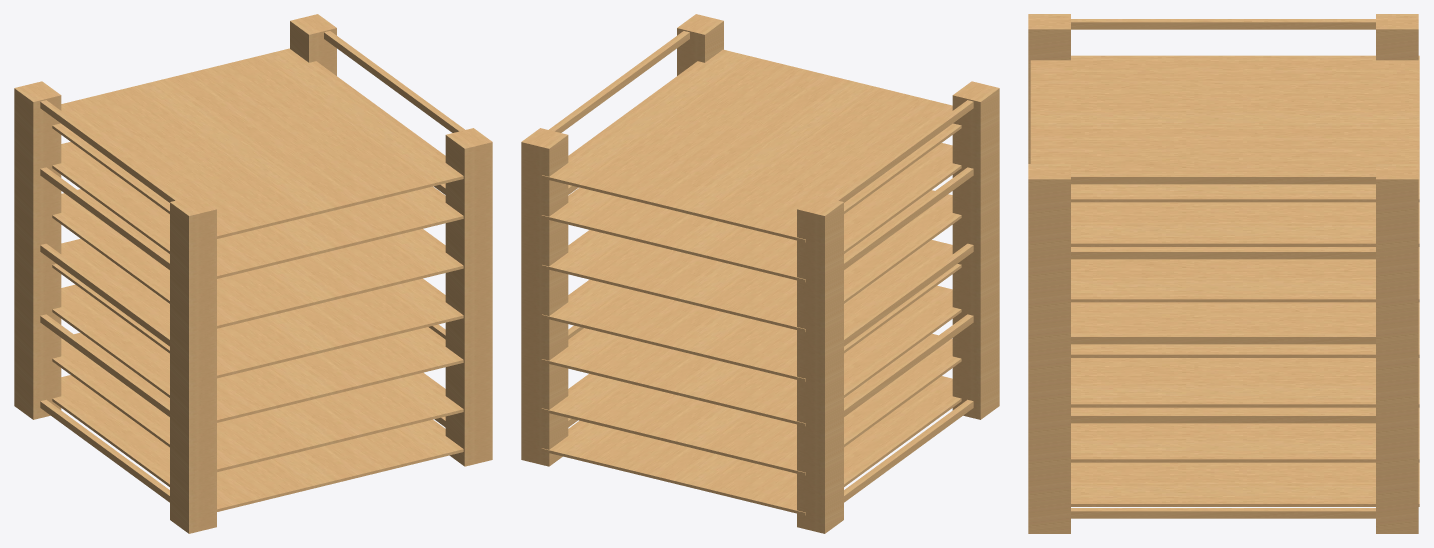
File: sh-contrib-pinewood-rack-full-height-half-width.glb
The picture shows the model from 3 angles, left to right: view 1: azimuth 30°, elevation 25°; view 2: azimuth 150°, elevation 25°; view 3: azimuth 270°, elevation 25°; orthographic projection. The views are drawn at different scales.
Visible parts, largest first — view 1: rack; view 2: rack; view 3: rack.
Boxes of the visible parts, left/top/right/bottom form: rack: left=14, top=14, right=492, bottom=533; rack: left=521, top=14, right=999, bottom=533; rack: left=1028, top=14, right=1419, bottom=533.
Bounding box in the file's own units: 1 × 1 × 1.
1 material, 1 textured.
